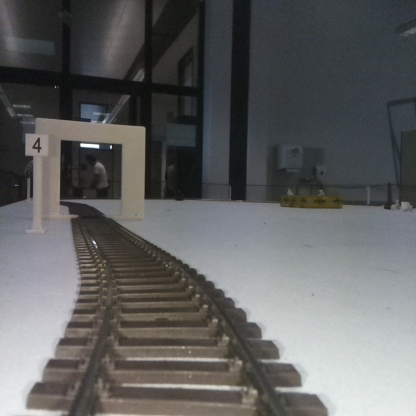white-info-4: (25, 135, 48, 234)
